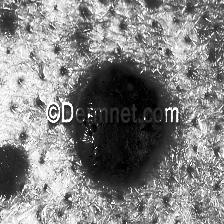Benign Marking or Mole: (76, 63, 166, 186)
